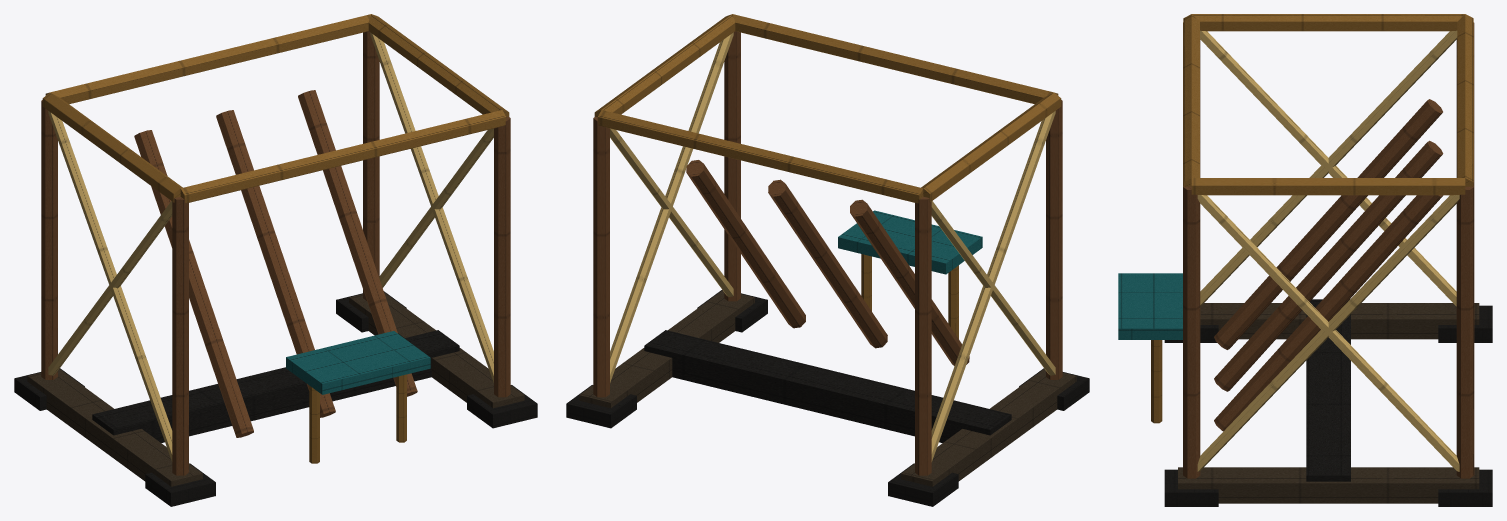
File: ark-scaffold-stage-2.e9.glb
3 renders of one model, left to right at view 1: azimuth 30°, elevation 25°; view 2: azimuth 150°, elevation 25°; view 3: azimuth 270°, elevation 25°, orthographic. The views are drawn at different scales.
Parts seen in each view (by area): view 1: ArkScaffoldStage2E9; view 2: ArkScaffoldStage2E9; view 3: ArkScaffoldStage2E9.
Part boxes in pixels (left/top/right/bottom): ArkScaffoldStage2E9: left=14, top=14, right=537, bottom=506; ArkScaffoldStage2E9: left=566, top=14, right=1089, bottom=506; ArkScaffoldStage2E9: left=1118, top=14, right=1492, bottom=506.
Size of the model in its own units: 2.78 by 2.2 by 2.35.
1 material, 1 textured.
